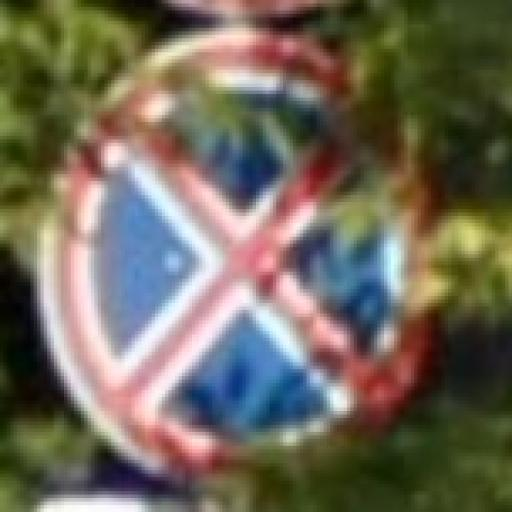traffic_sign: (32, 22, 436, 502)
